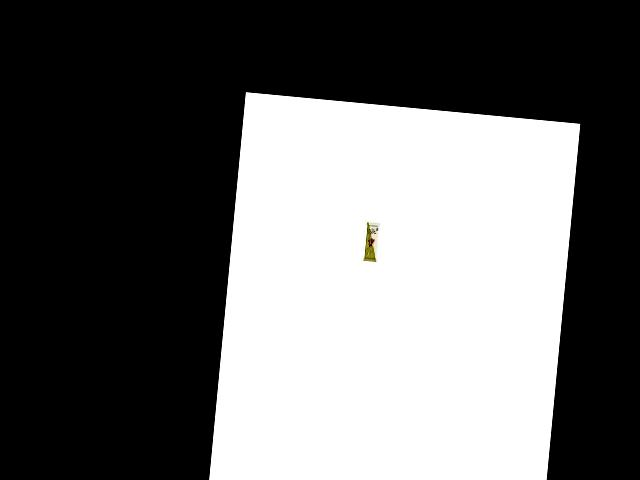chocolate: (359, 219, 383, 264)
